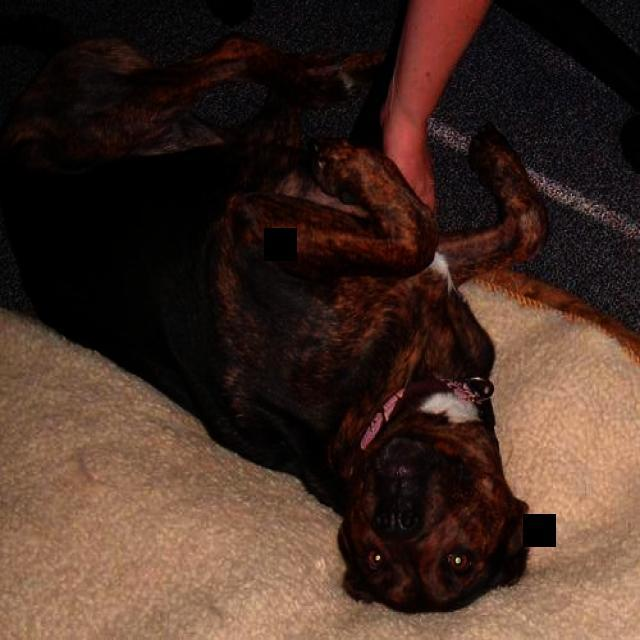adult_dog: (1, 29, 639, 617)
